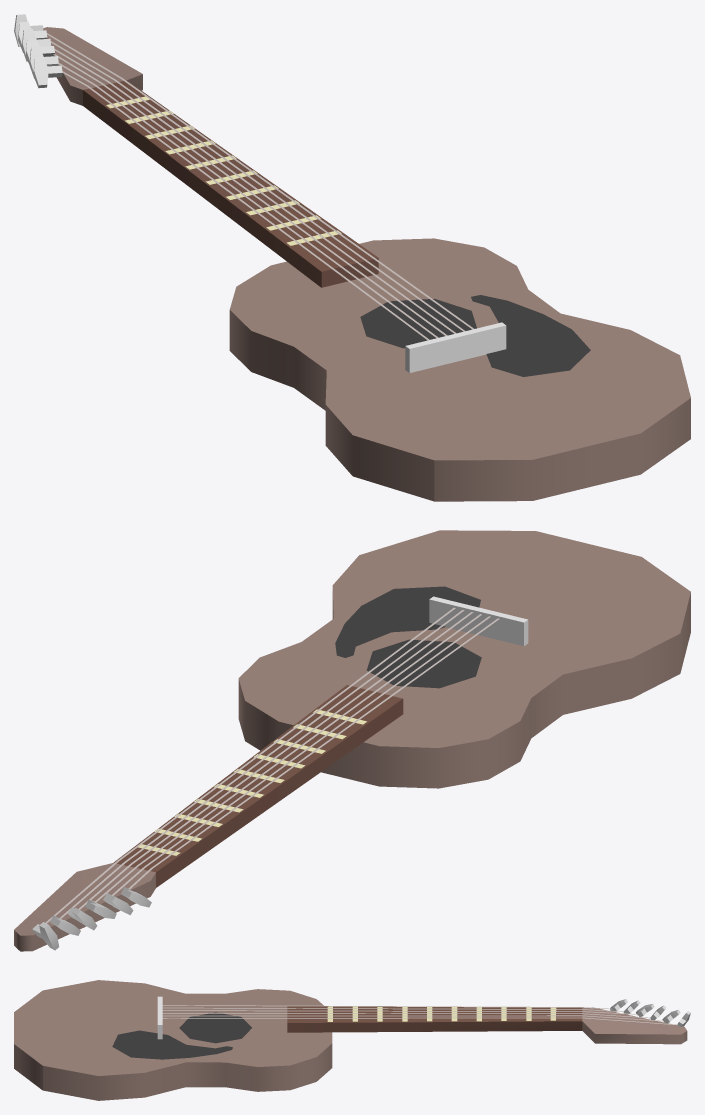
File: instrument-b.glb
3 views of the same model, one above another, from view 1: azimuth 30°, elevation 25°; view 2: azimuth 150°, elevation 25°; view 3: azimuth 270°, elevation 25° (orthographic). The views are drawn at different scales.
Visible parts, largest first — view 1: musical_instrument_017; view 2: musical_instrument_017; view 3: musical_instrument_017.
Part boxes in pixels (<box>): musical_instrument_017: <box>14,14,690,501</box>; musical_instrument_017: <box>14,530,690,951</box>; musical_instrument_017: <box>14,980,690,1100</box>.
Size of the model in its own units: 0.3939 by 0.0802 by 1.17.
Materials: 1 (1 with a texture image).
